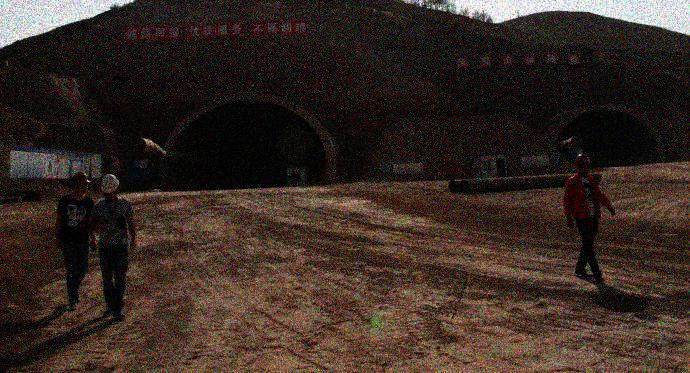helmet: (98, 172, 121, 203), (69, 170, 90, 196), (573, 153, 593, 175)
